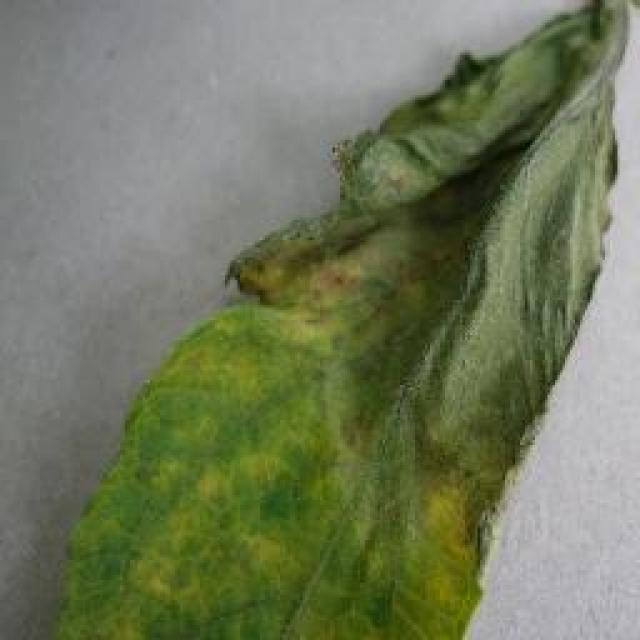Tomato Late Blight: (275, 5, 627, 498)
